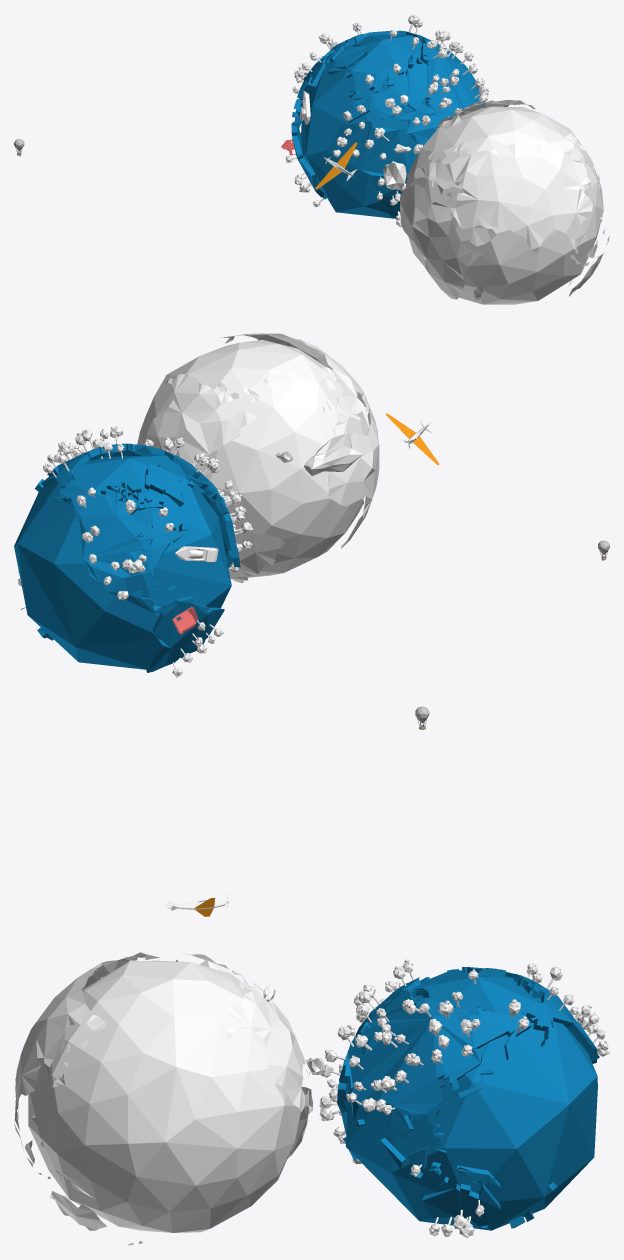
File: Low-Poly-Earth fbx.fbx
3 renders of one model, top to bottom at view 1: azimuth 30°, elevation 25°; view 2: azimuth 150°, elevation 25°; view 3: azimuth 270°, elevation 25°, orthographic. The views are drawn at different scales.
Visible parts, largest first — view 1: countries_1, land, sea, cloud_3, plane_1; view 2: countries_1, sea, land, cloud_3, plane_1, Capsule_2_2; view 3: sea, countries_1, land.
Boxes of the visible parts, left/top/right/bottom form: countries_1: left=291, top=30, right=482, bottom=218; land: left=400, top=100, right=609, bottom=299; sea: left=405, top=106, right=603, bottom=304; cloud_3: left=383, top=161, right=406, bottom=189; plane_1: left=315, top=142, right=357, bottom=189; countries_1: left=14, top=443, right=240, bottom=672; sea: left=137, top=340, right=369, bottom=577; land: left=146, top=333, right=379, bottom=582; cloud_3: left=303, top=433, right=362, bottom=475; plane_1: left=385, top=413, right=439, bottom=465; Capsule_2_2: left=175, top=546, right=218, bottom=562; sea: left=28, top=960, right=301, bottom=1232; countries_1: left=337, top=967, right=599, bottom=1230; land: left=14, top=952, right=312, bottom=1245.
Size of the model in its own units: 554 by 203 by 430.
